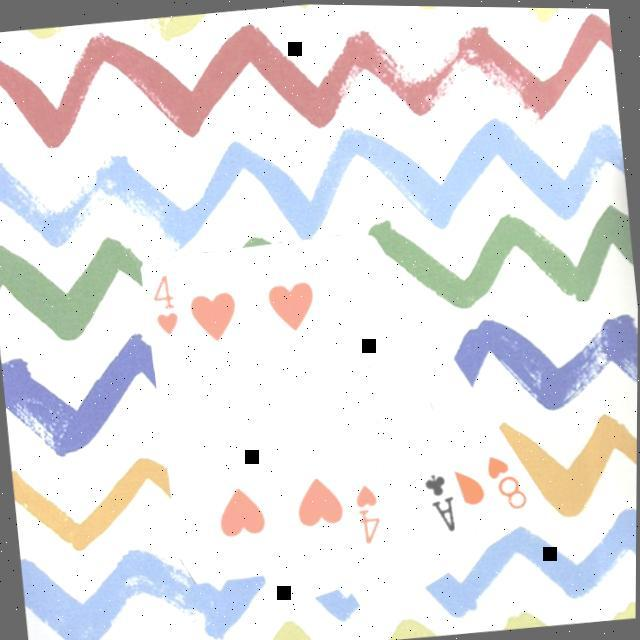4H: (146, 272, 182, 342), (348, 482, 385, 550)
8H: (481, 448, 531, 516)
AC: (419, 469, 460, 537)
